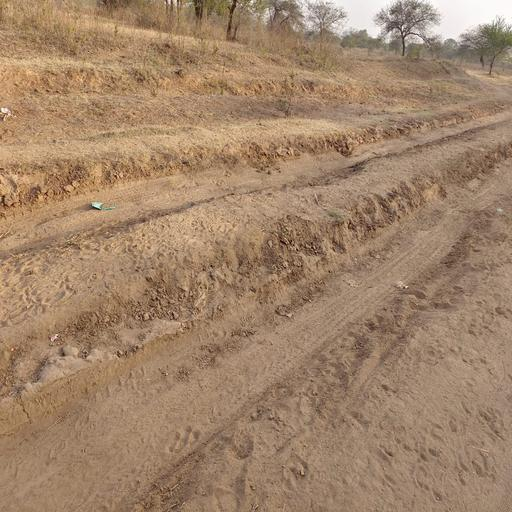vehicle_track: (0, 155, 512, 512), (0, 111, 512, 254)
